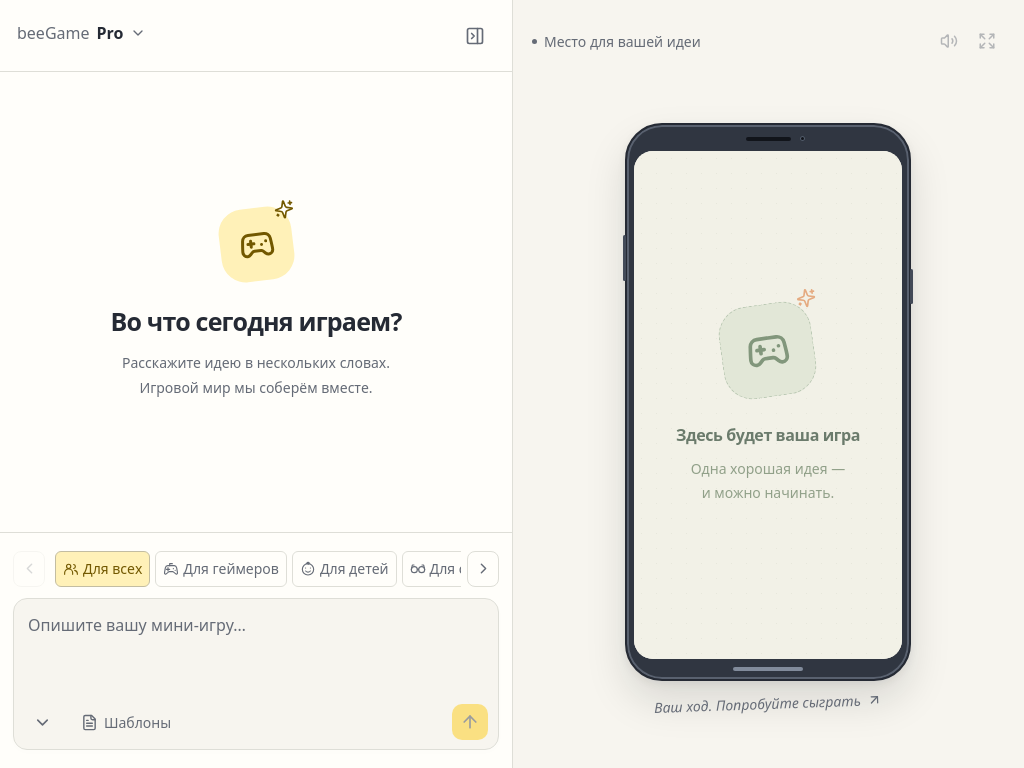
Test case: starts a new account chat with Pro without needing to choose it first
Expected: the heading named "Выбрать модель: Pro" is shown, [10,16,153,50]
In the text box named "Описание вашей игры": (256, 645) [14,599,498,691], type "Собрать звёзды"
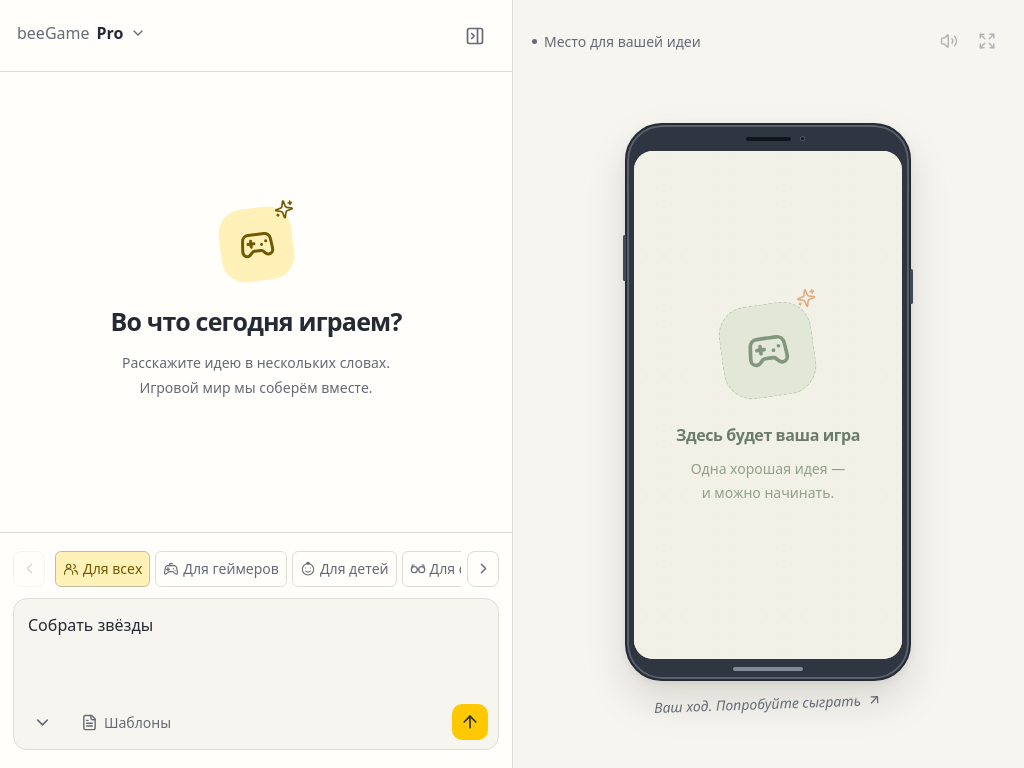
Click the button named "Создать игру": click(470, 722) [452,704,488,740]
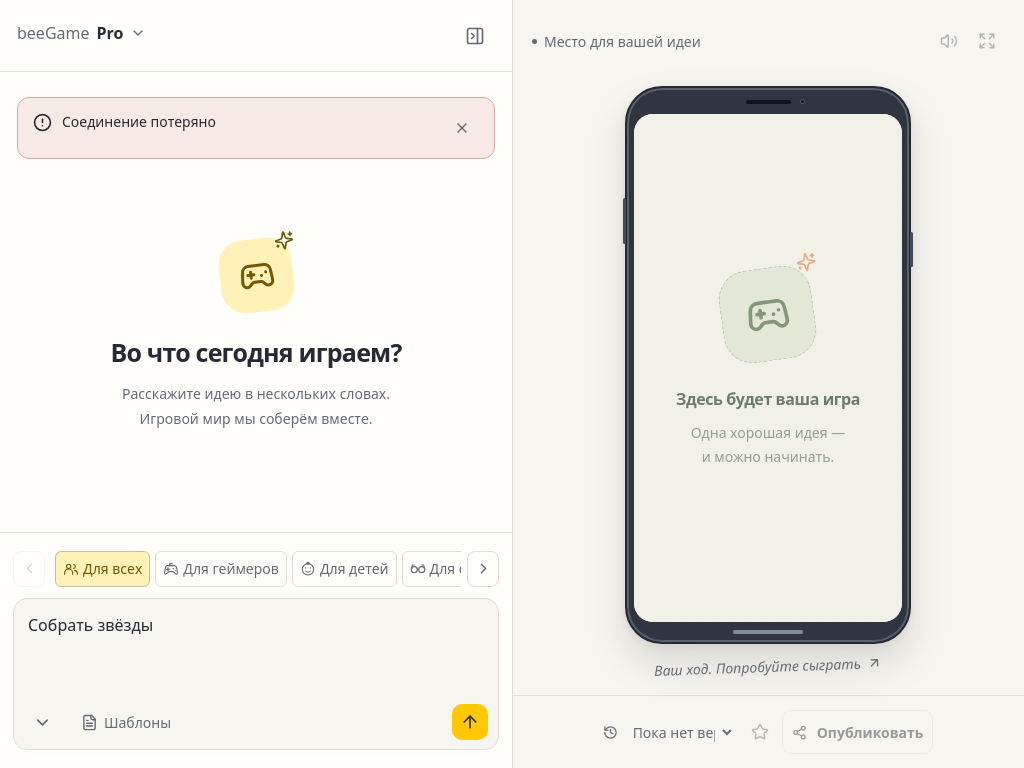
Now the text "Соединение потеряно" is shown, box [62,112,216,131]
